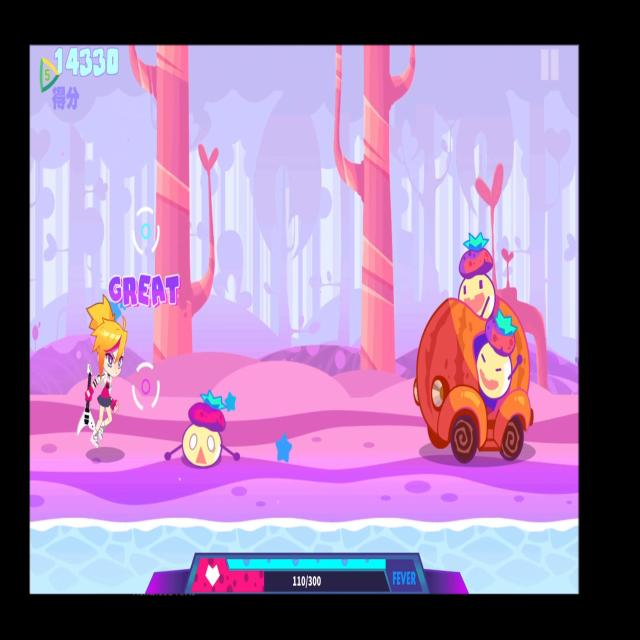cheboss: (406, 221, 541, 482)
qiu: (163, 386, 242, 472)
